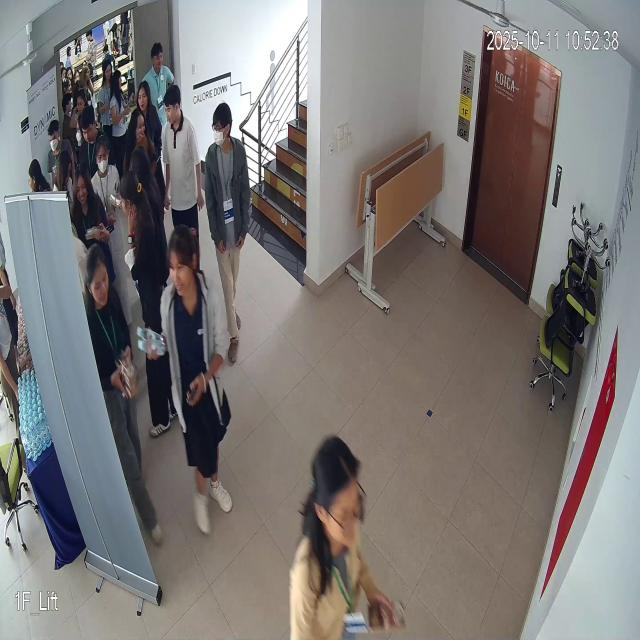face: (81, 238, 112, 312), (163, 83, 182, 130)
